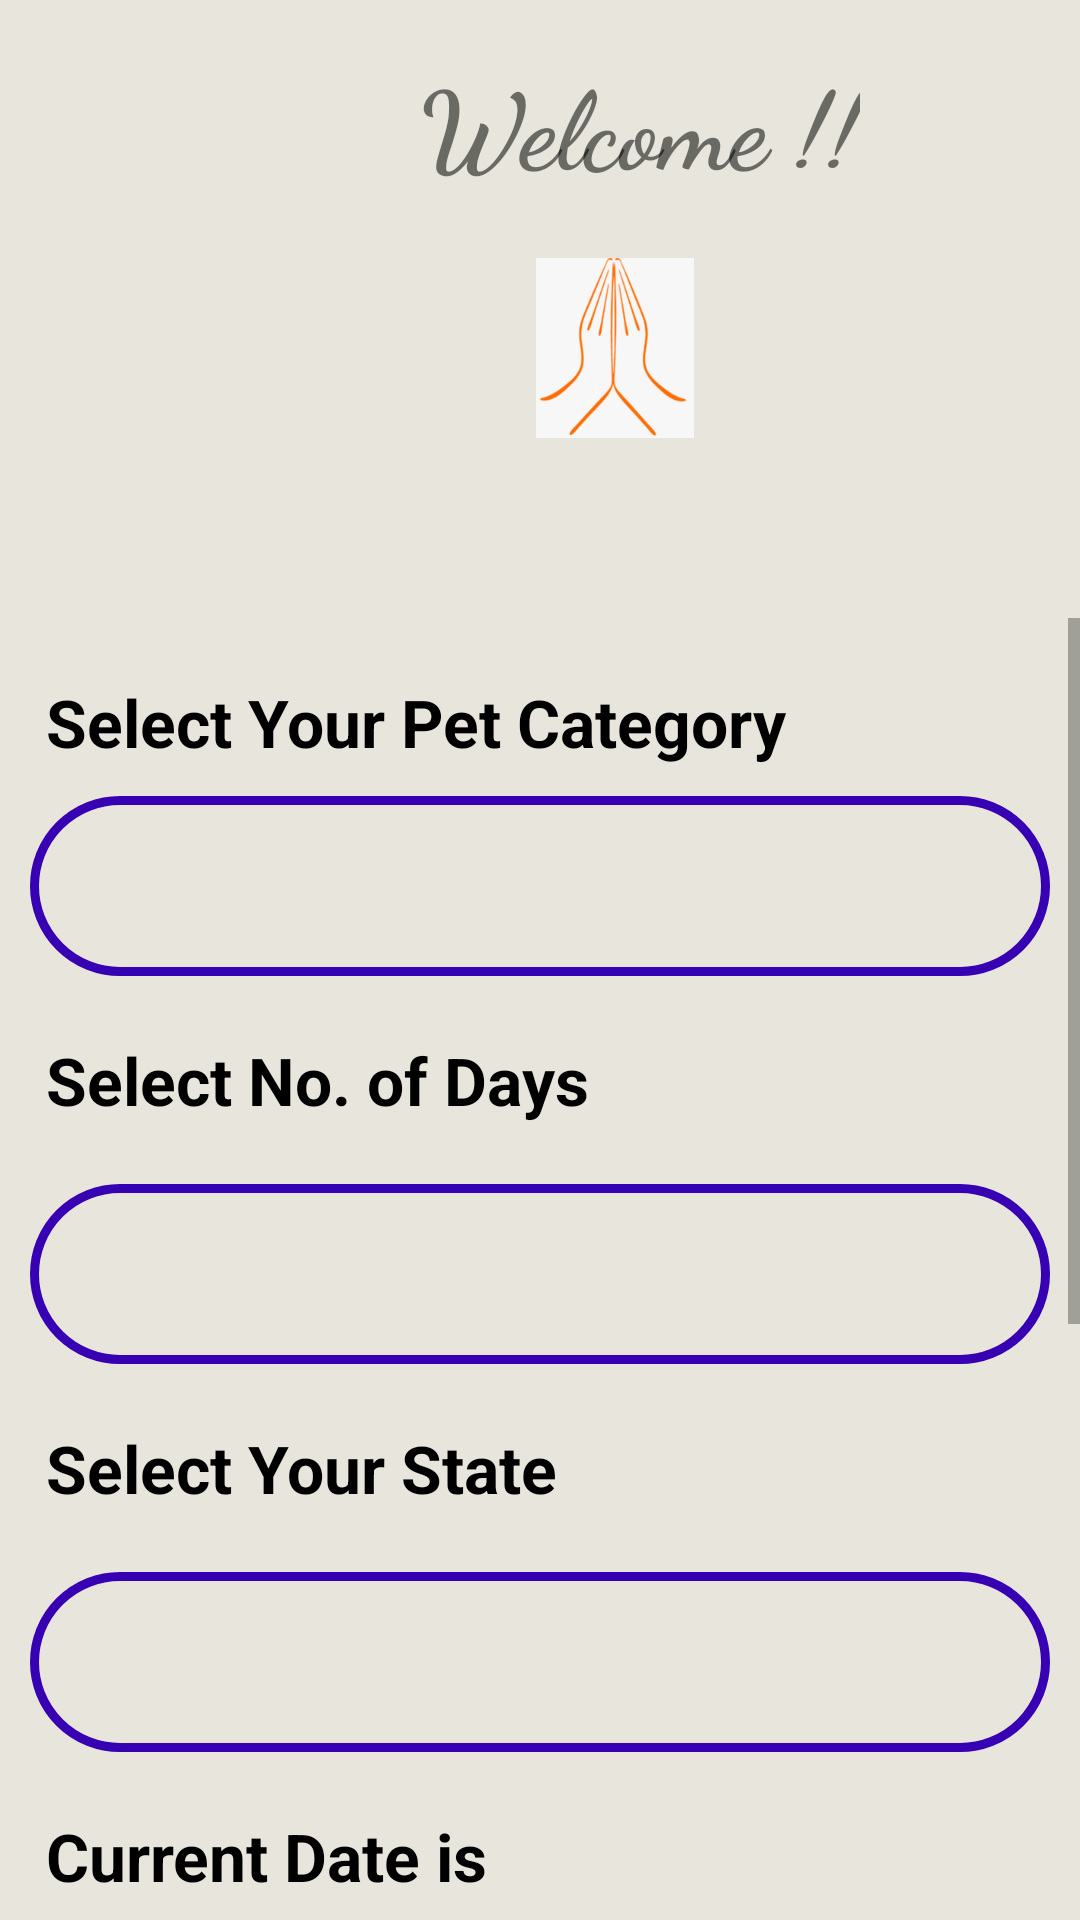

Icons on this 1080px×1920px Android screen, each with its box as {"left": x1, "top": y1, "right": x2, "bottom": y2}:
namaste: {"left": 536, "top": 258, "right": 694, "bottom": 438}
